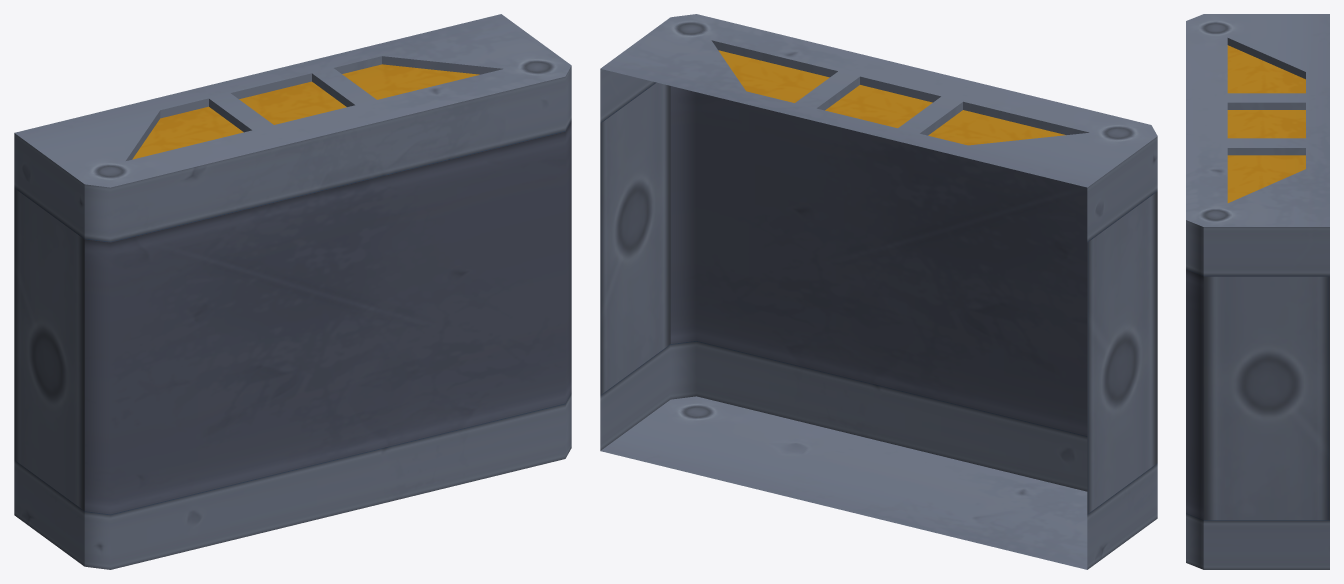
File: obj_spaceship_wall09.fbx
3 renders of one model, left to right at view 1: azimuth 30°, elevation 25°; view 2: azimuth 150°, elevation 25°; view 3: azimuth 270°, elevation 25°, orthographic. The views are drawn at different scales.
Visible parts, largest first — view 1: polySurface205; view 2: polySurface205; view 3: polySurface205.
Boxes of the visible parts, bbox=[...] form: polySurface205: bbox=[14, 14, 571, 569]; polySurface205: bbox=[600, 14, 1157, 569]; polySurface205: bbox=[1186, 14, 1329, 569].
Size of the model in its own units: 4 by 3 by 1.14.
